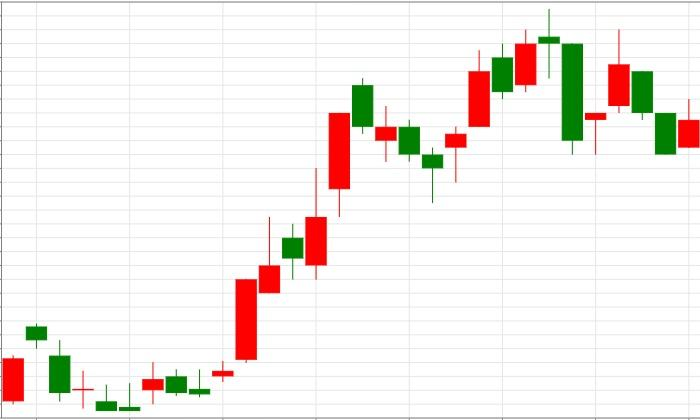evening_star_fall: (421, 8, 584, 202)
hammer_rise: (351, 78, 444, 203)
